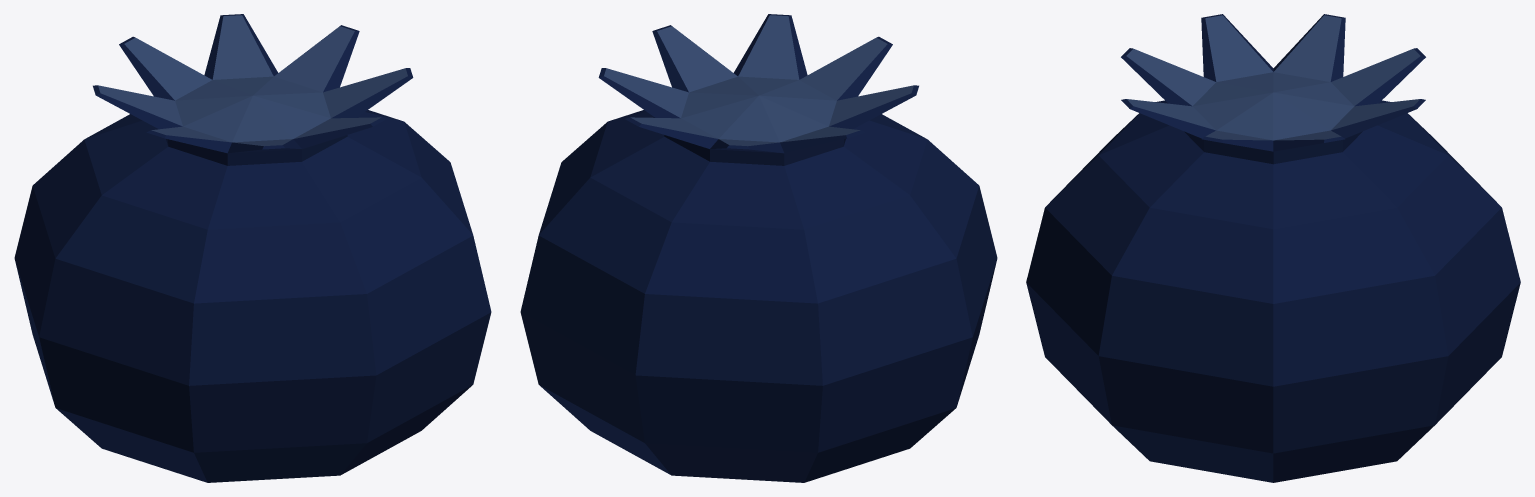
Rendered from Blueberry.fbx.
The picture shows the model from 3 angles, left to right: view 1: azimuth 30°, elevation 25°; view 2: azimuth 150°, elevation 25°; view 3: azimuth 270°, elevation 25°; orthographic projection.
Parts seen in each view (by area): view 1: Blueberry; view 2: Blueberry; view 3: Blueberry.
Boxes of the visible parts, x1,y1,x2,y2 form: Blueberry: [14, 14, 491, 482]; Blueberry: [520, 14, 997, 482]; Blueberry: [1026, 14, 1520, 482].
Bounding box in the file's own units: 171 × 143 × 171.
